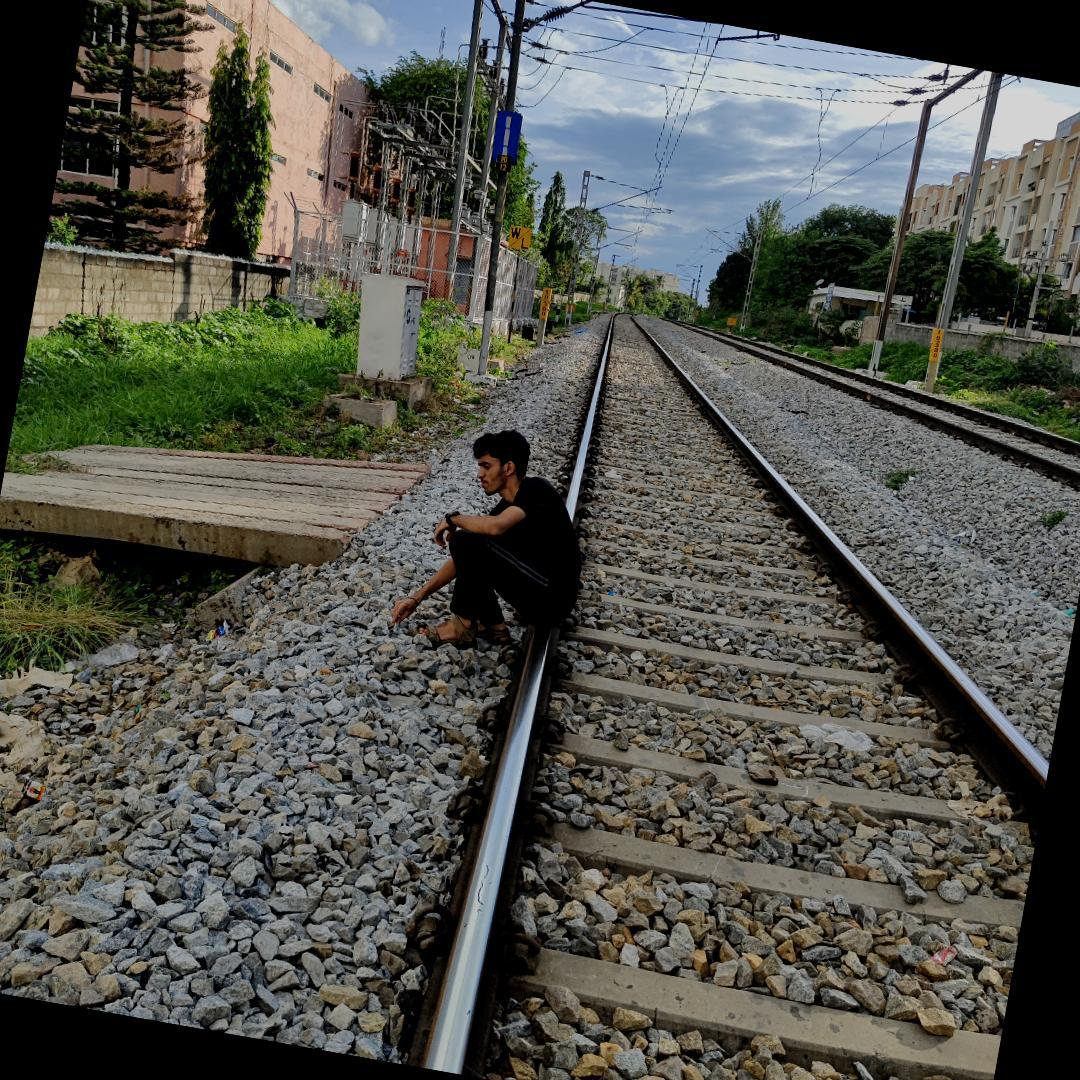sitting: (375, 414, 596, 680)
